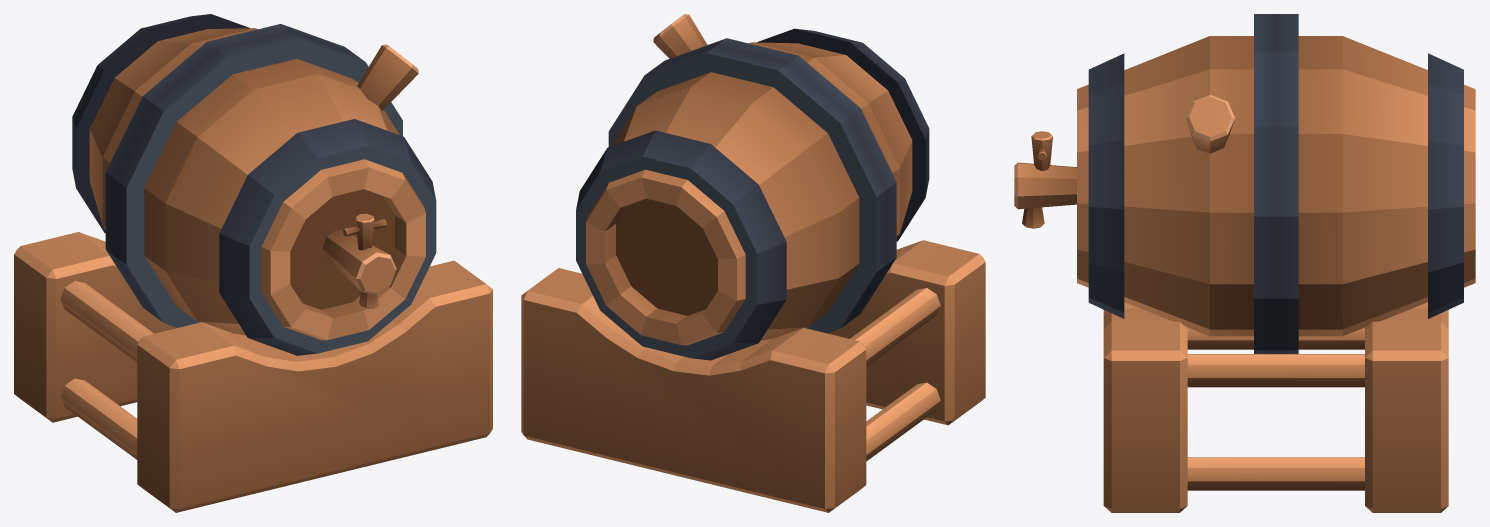
Rendered from mt_prop_barell04.fbx.
3 views of the same model, side by side, from view 1: azimuth 30°, elevation 25°; view 2: azimuth 150°, elevation 25°; view 3: azimuth 270°, elevation 25° (orthographic). The views are drawn at different scales.
Visible parts, largest first — view 1: prop_barel03; view 2: prop_barel03; view 3: prop_barel03.
Part boxes in pixels (x1=…): prop_barel03: x1=14, y1=14, x2=492, y2=512; prop_barel03: x1=521, y1=14, x2=985, y2=512; prop_barel03: x1=1014, y1=14, x2=1475, y2=512.
Size of the model in its own units: 101 by 113 by 118.
